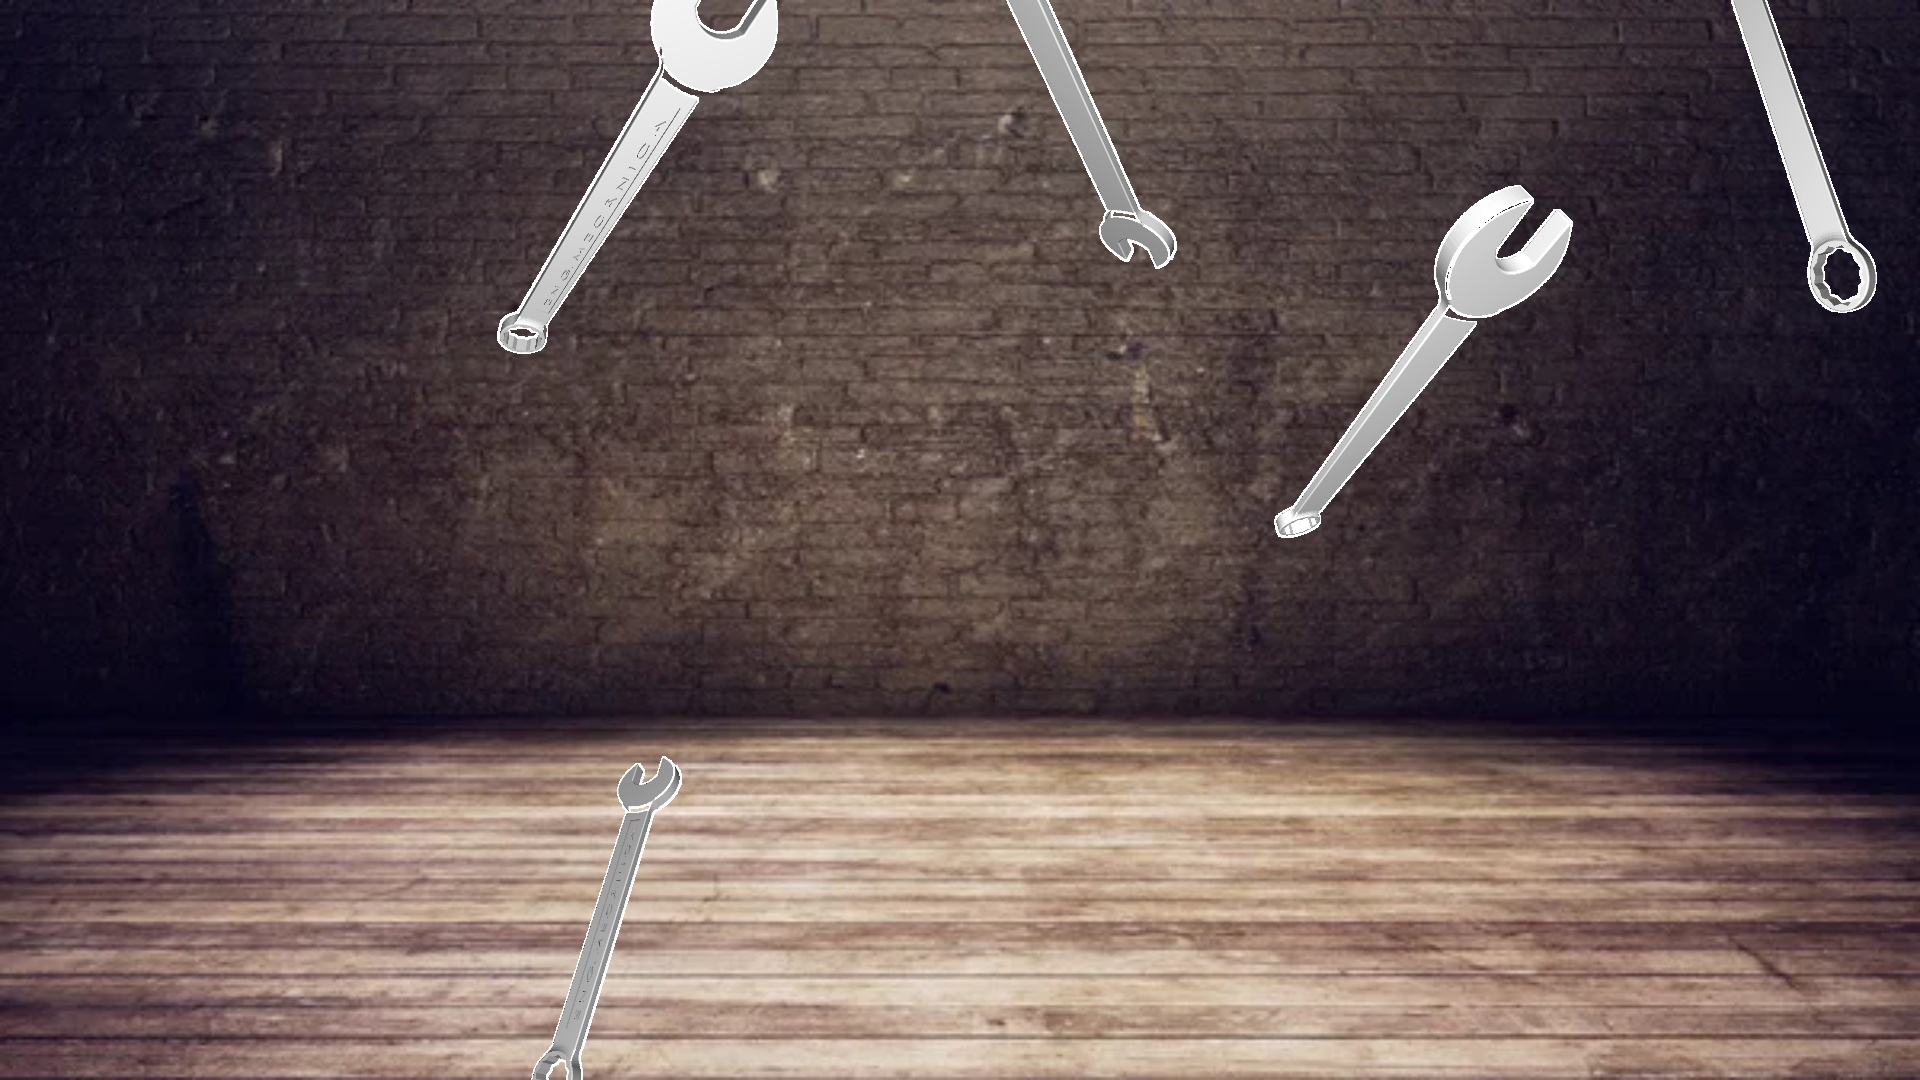Mixed Key: (1274, 185, 1572, 537), (497, 0, 777, 353), (531, 756, 680, 1079), (1006, 0, 1176, 268), (1731, 0, 1876, 313)
